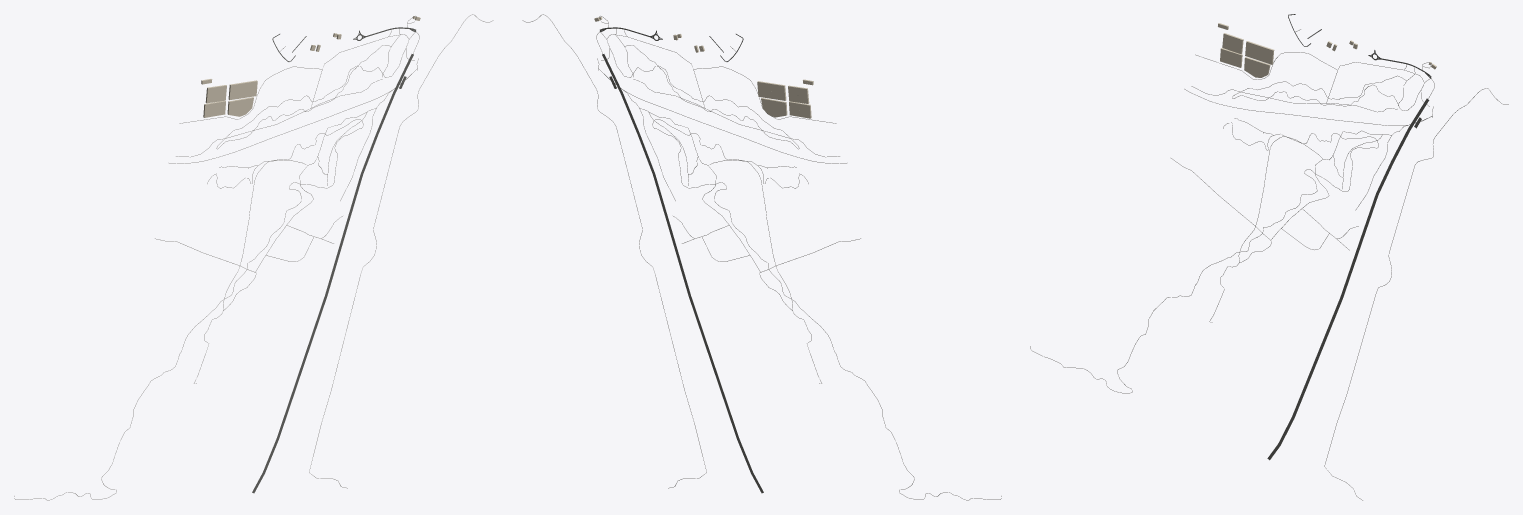
File: historic-palestine-04_22_3457_3161.glb
The picture shows the model from 3 angles, left to right: view 1: azimuth 30°, elevation 25°; view 2: azimuth 150°, elevation 25°; view 3: azimuth 330°, elevation 25°; orthographic projection.
Visible parts, largest first — view 1: Road 4, Road .038; view 2: Road 4, Road .038; view 3: Road 4, Road .038.
Part boxes in pixels (left/top/right/bottom): Road 4: left=252, top=93, right=394, bottom=493; Road .038: left=14, top=119, right=363, bottom=500; Road 4: left=621, top=93, right=763, bottom=493; Road .038: left=652, top=119, right=1001, bottom=500; Road 4: left=1267, top=128, right=1410, bottom=460; Road .038: left=1030, top=122, right=1378, bottom=393.
Size of the model in its own units: 2093 by 1966 by 8.7.
